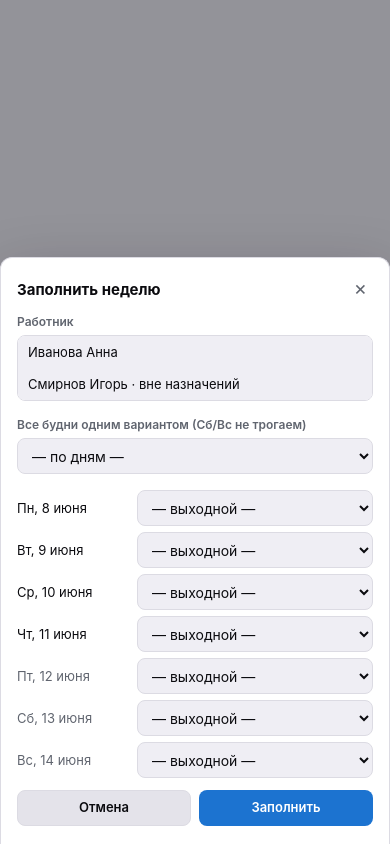
Test: FillWeekPanel (консоль) › без выбранных дней не шлёт ничего и говорит почему
Step 1. Click the button "Иванова Анна" → [73, 352], box [18, 336, 372, 368]
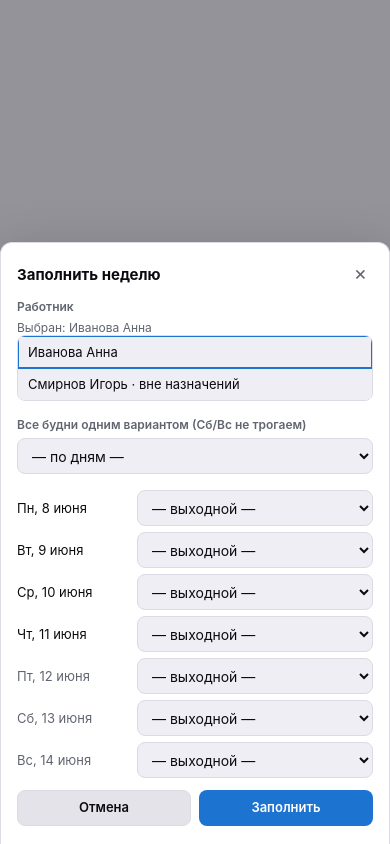
Step 2. Click the button "Заполнить" → [286, 808], box [199, 790, 373, 826]
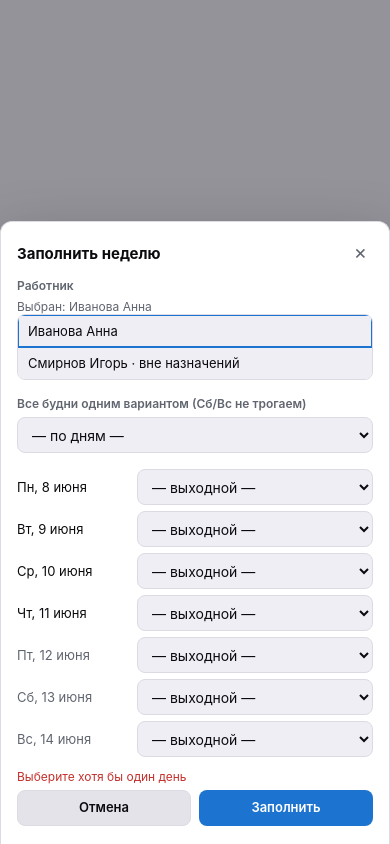
Result: the text "Выберите хотя бы один день" is shown at [17, 769, 186, 784]
